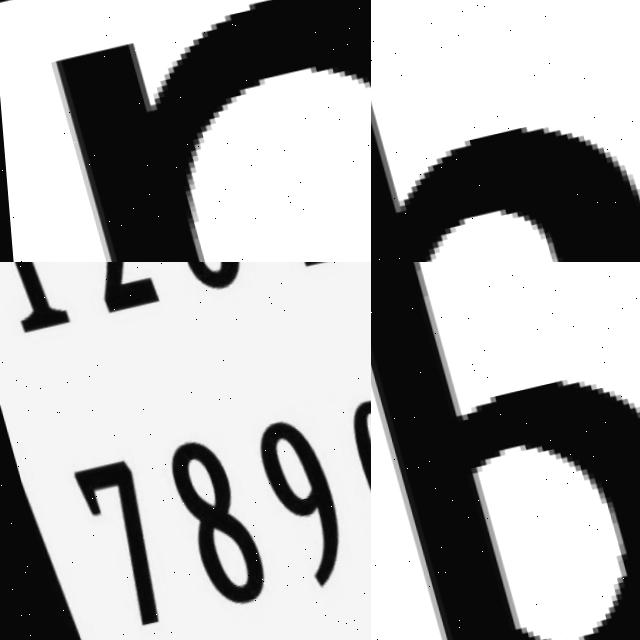0: (320, 373, 371, 586)
1: (0, 262, 80, 367)
2: (16, 262, 168, 338)
3: (129, 262, 253, 306)
7: (48, 429, 187, 640)
8: (143, 412, 273, 632)
9: (230, 391, 367, 612)
B: (371, 262, 640, 640)
H: (371, 0, 640, 262)
N: (26, 0, 371, 262)
